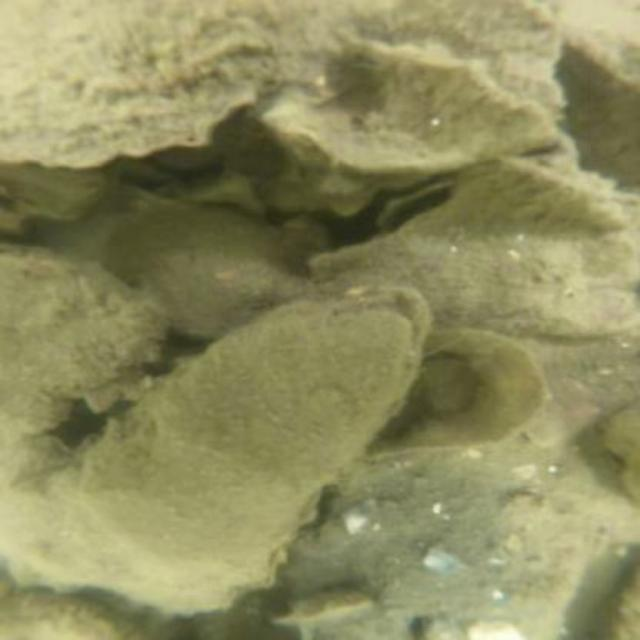Oyster-Closed: (77, 290, 440, 580), (0, 0, 579, 168), (285, 470, 615, 638), (312, 165, 631, 334), (5, 240, 164, 435), (350, 331, 551, 464), (103, 200, 299, 329), (448, 152, 632, 232)
